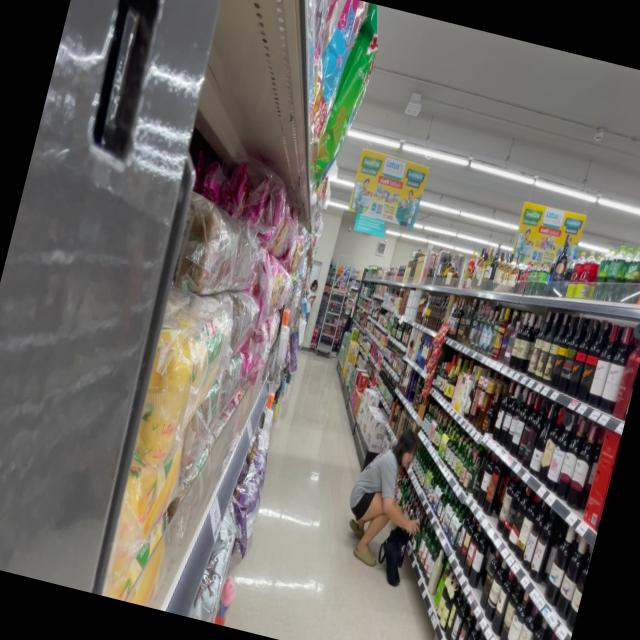shoplifting: (334, 420, 444, 586)
